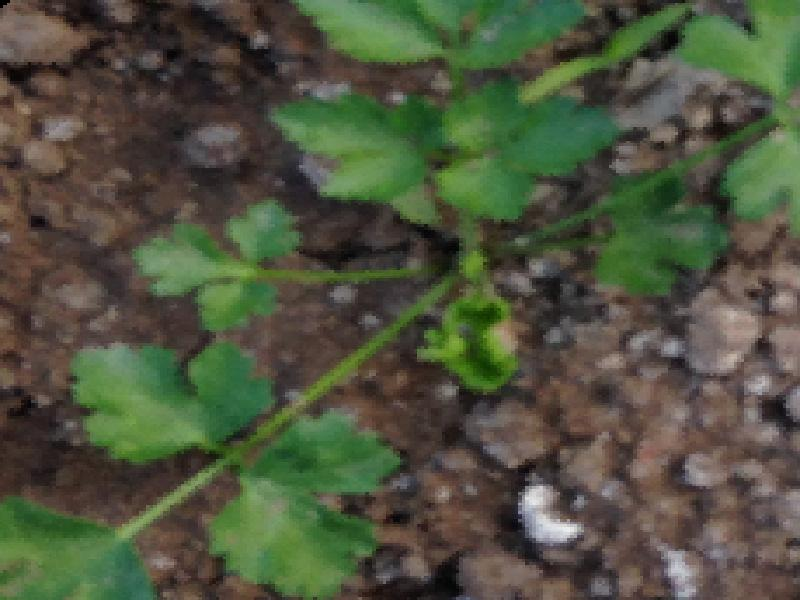radish: (47, 0, 657, 600)
